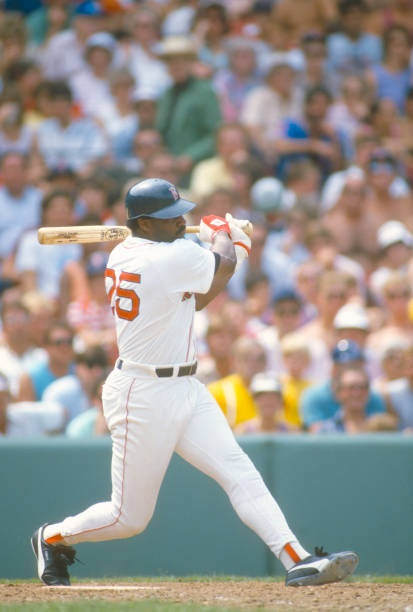bita: (30, 225, 133, 247)
